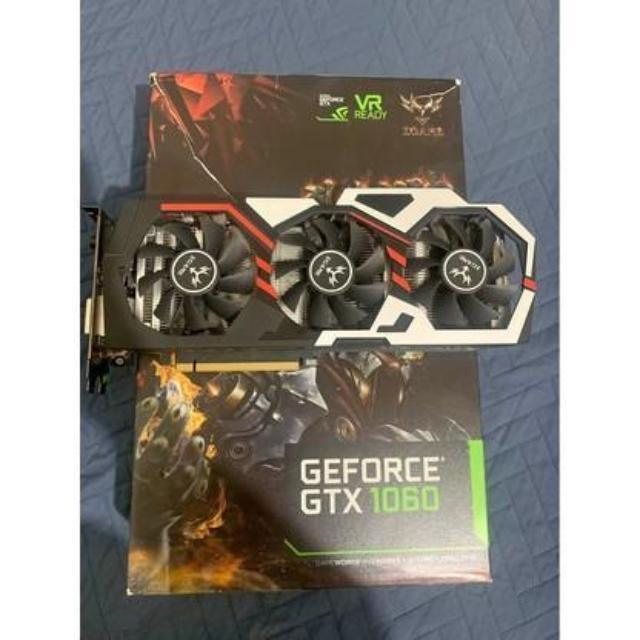GPU: (79, 207, 546, 367)
